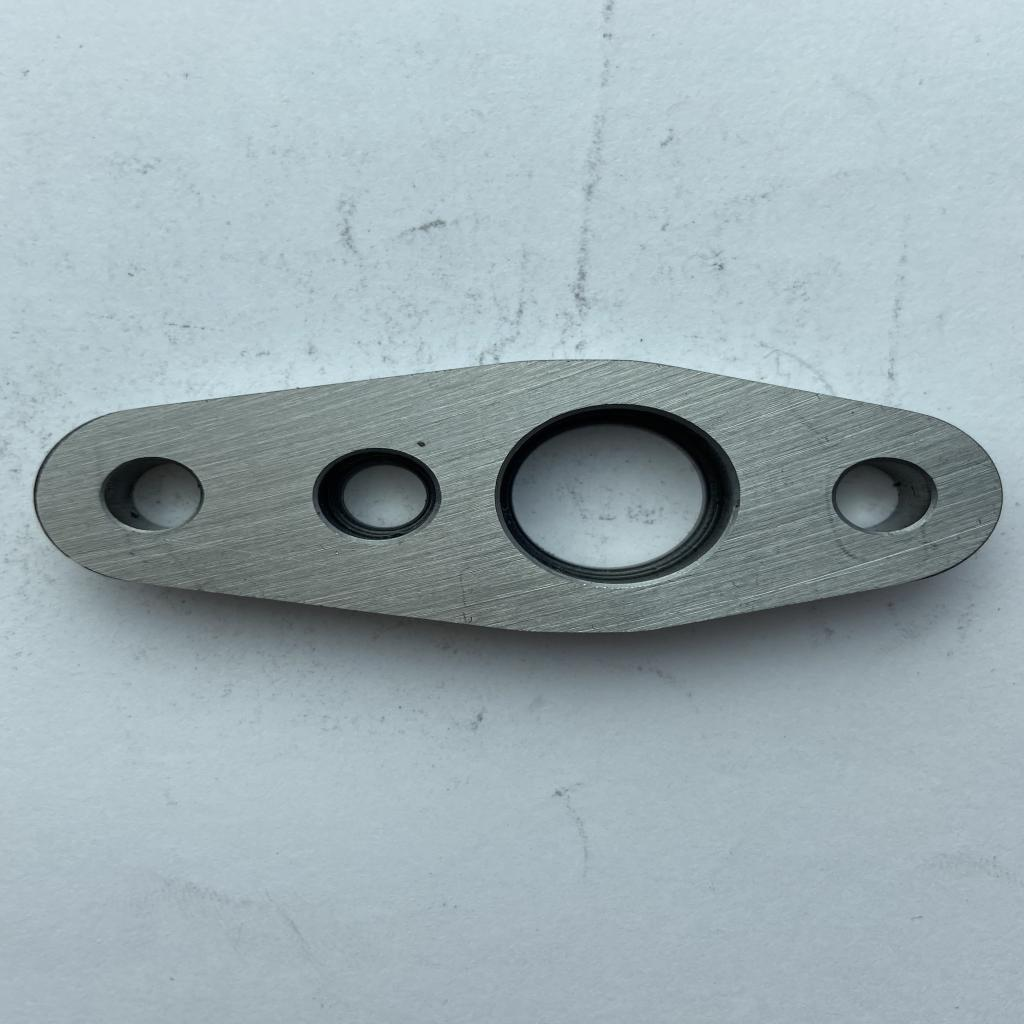chap: (333, 549, 343, 559)
lines: (828, 534, 873, 569), (450, 566, 478, 622), (906, 533, 948, 560), (413, 438, 428, 454)
